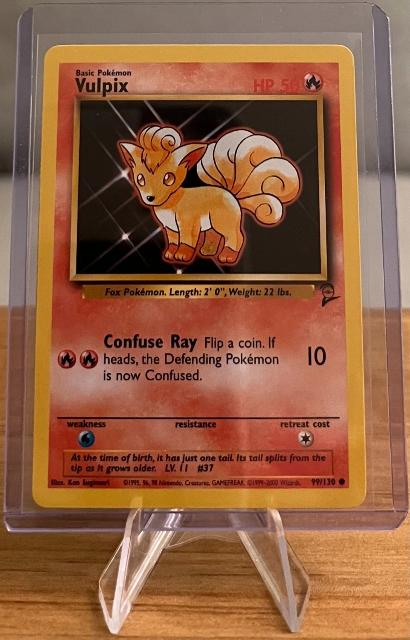Card: (28, 41, 373, 512)
Name: (70, 76, 134, 101)
